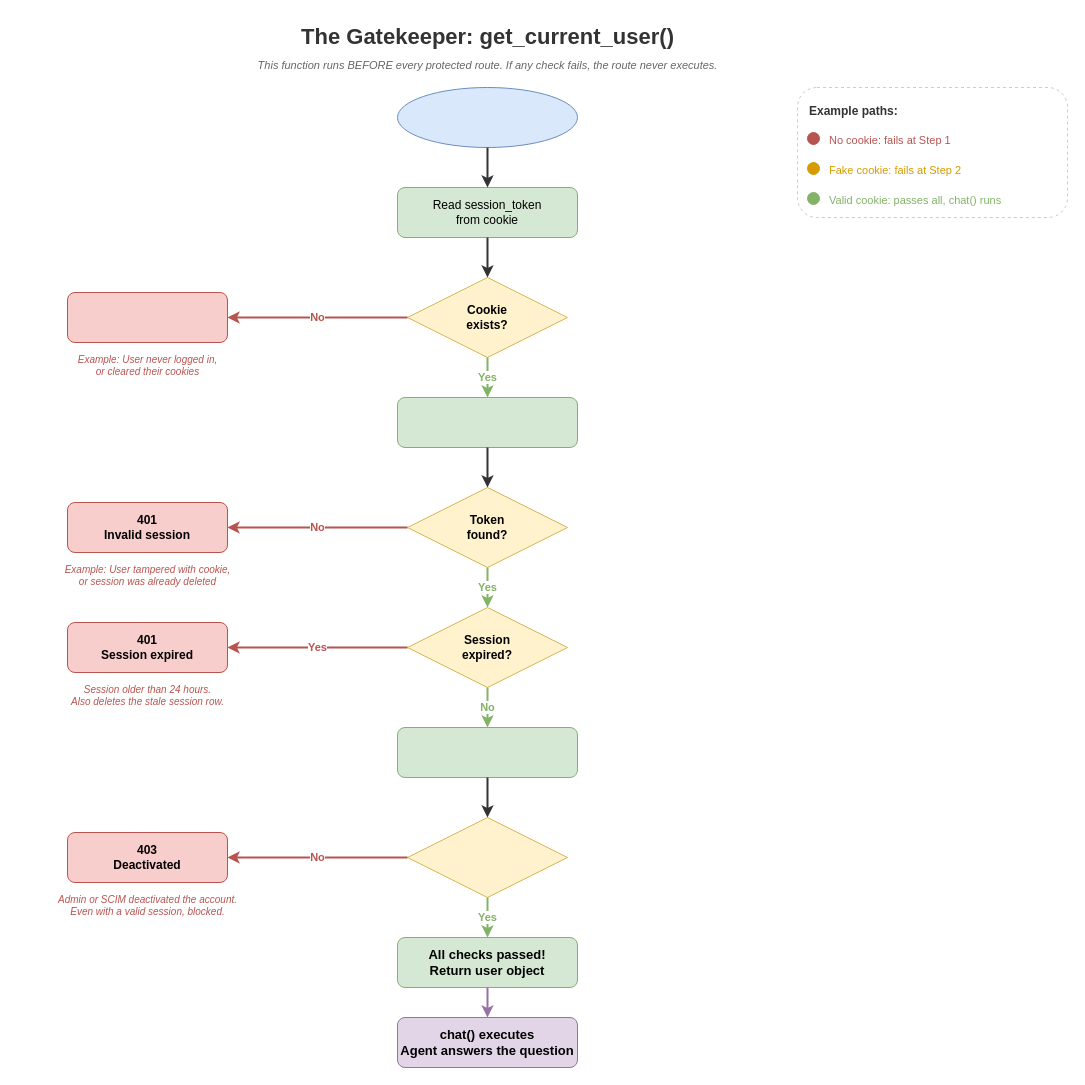
The diagram is 1085 pixels wide and 1085 high, and some of its shapes have lost their labels. Here are the shapes that lost their labels. From the top down, the box of each, then its label:
(396, 86, 578, 148): Request arrives at /chat
(66, 292, 228, 342): 401 Not logged in
(396, 396, 578, 448): Look up token in sessions table
(396, 726, 578, 778): Get user from users table
(406, 816, 568, 898): User active?
